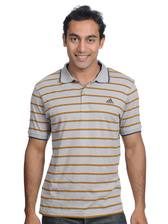clothoes: (25, 63, 145, 216)
